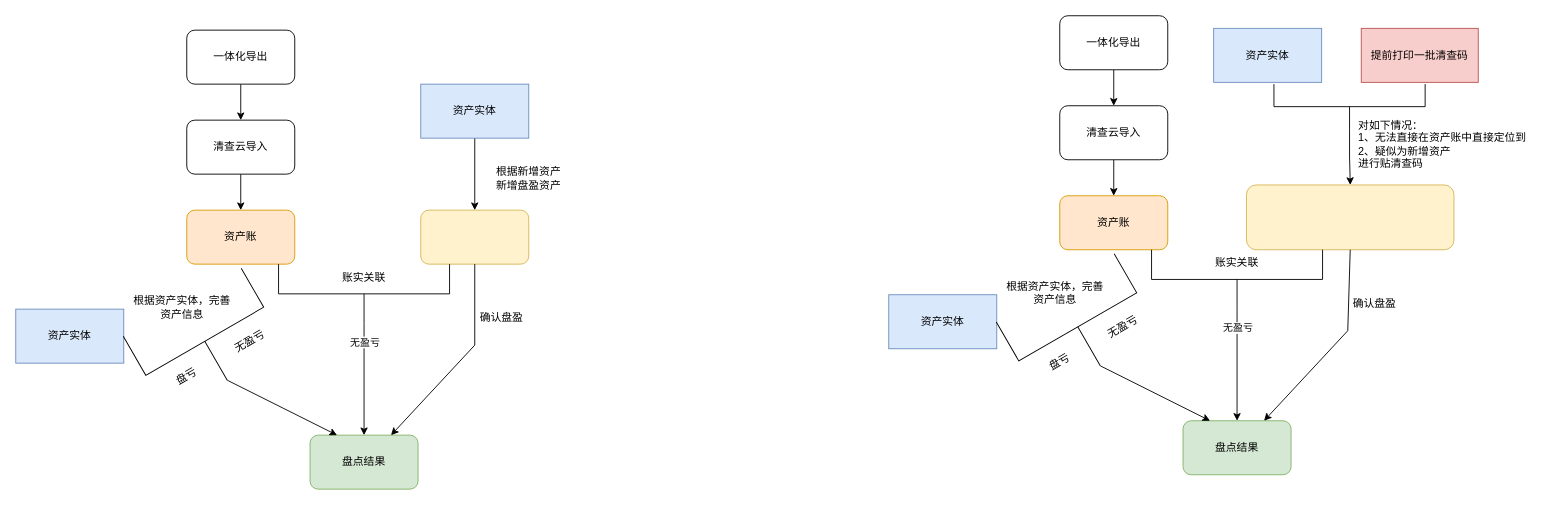
This 1561x505 diagram has some shape labels left out. The box of each missing label's shape, as (x1, y1, x2, y2) in pixels:
新增盘盈: (420, 209, 529, 264)
贴码并录入系统，即原新增盘盈操作 注意： 此时录入系统为清查账，可以校验录入信息，避免后续需要重新去现场录入: (1246, 184, 1454, 250)
